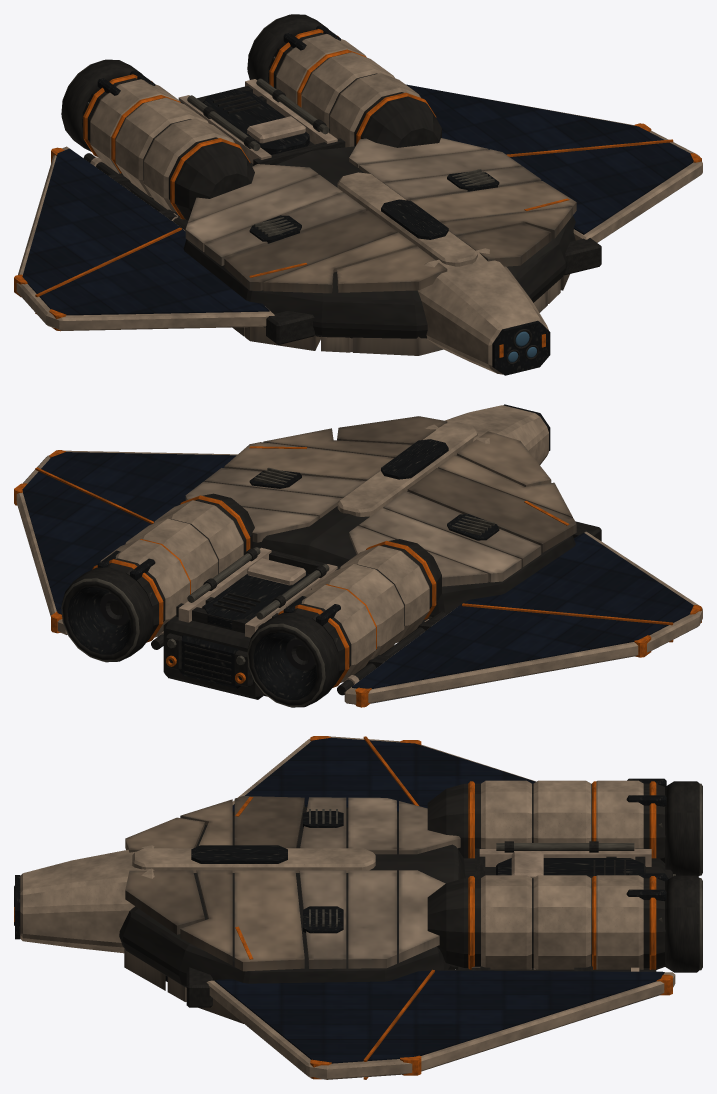
Rendered from starter-survey-lod1.glb.
3 renders of one model, top to bottom at view 1: azimuth 30°, elevation 25°; view 2: azimuth 150°, elevation 25°; view 3: azimuth 270°, elevation 25°, orthographic. The views are drawn at different scales.
Visible parts, largest first — view 1: Hull | Medium machinery finishes, Hull | Medium hull panels, Hull | Medium wing surfaces, Hull | Ivory ceramic coating.001, Hull | Pale ceramic coating.001; view 2: Hull | Medium machinery finishes, Hull | Medium wing surfaces, Hull | Medium hull panels, Hull | Ivory ceramic coating.001, Hull | Pale ceramic coating.001, Hull | Carbon refractory throat.001; view 3: Hull | Ivory ceramic coating.001, Hull | Medium machinery finishes, Hull | Medium hull panels, Hull | Medium wing surfaces, Hull | Pale ceramic coating.001.
Part boxes in pixels (x1,y1,x2,y2): Hull | Medium machinery finishes: (14,14,701,375); Hull | Medium hull panels: (185,138,576,355); Hull | Medium wing surfaces: (22,84,693,315); Hull | Ivory ceramic coating.001: (16,34,702,374); Hull | Pale ceramic coating.001: (90,79,337,220); Hull | Medium machinery finishes: (14,404,701,707); Hull | Medium wing surfaces: (22,452,693,703); Hull | Medium hull panels: (185,416,576,586); Hull | Ivory ceramic coating.001: (16,405,702,704); Hull | Pale ceramic coating.001: (157,547,428,684); Hull | Carbon refractory throat.001: (100,592,315,670); Hull | Ivory ceramic coating.001: (20,736,675,1079); Hull | Medium machinery finishes: (14,736,702,1079); Hull | Medium hull panels: (124,796,460,1023); Hull | Medium wing surfaces: (214,737,664,1063); Hull | Pale ceramic coating.001: (472,849,651,971).
Bounding box in the file's own units: 9.28 × 1.59 × 8.13.
7 materials, 5 textured.
